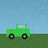vehicle: (6, 24, 30, 39)
